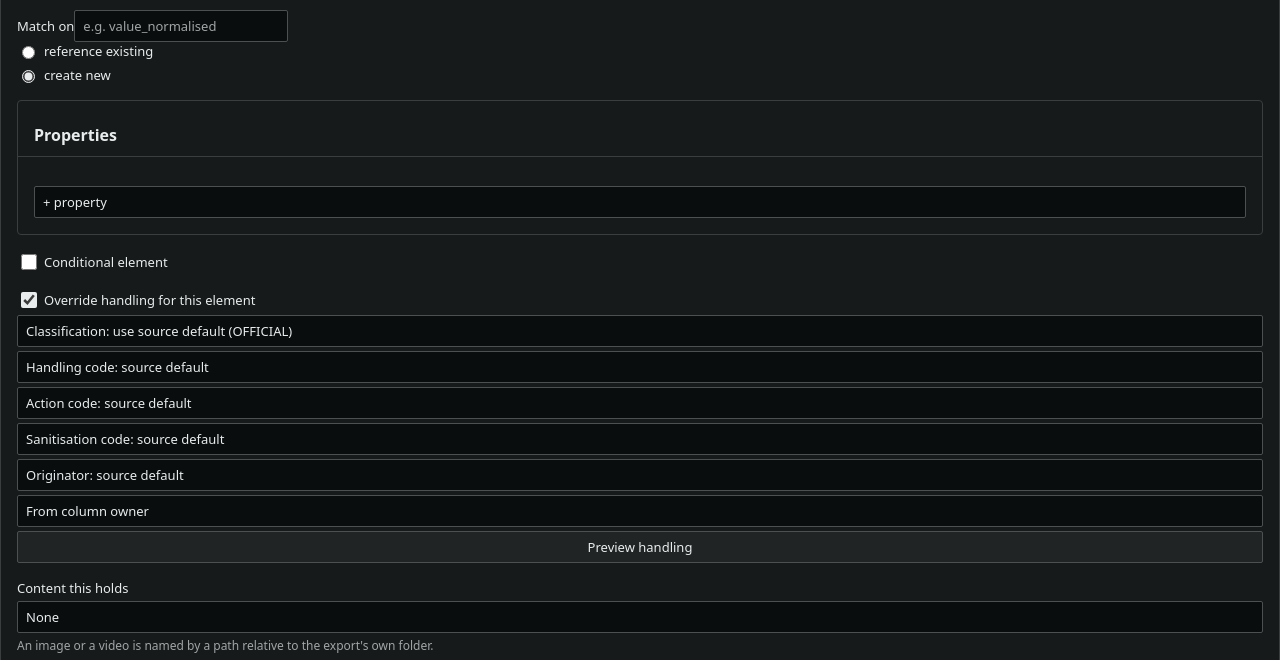
ElementInspector: the preview of a bound part › names every bound part, not classification alone
(page scrolled)
Click the button "Preview handling": x=640, y=547 [17,531,1263,563]
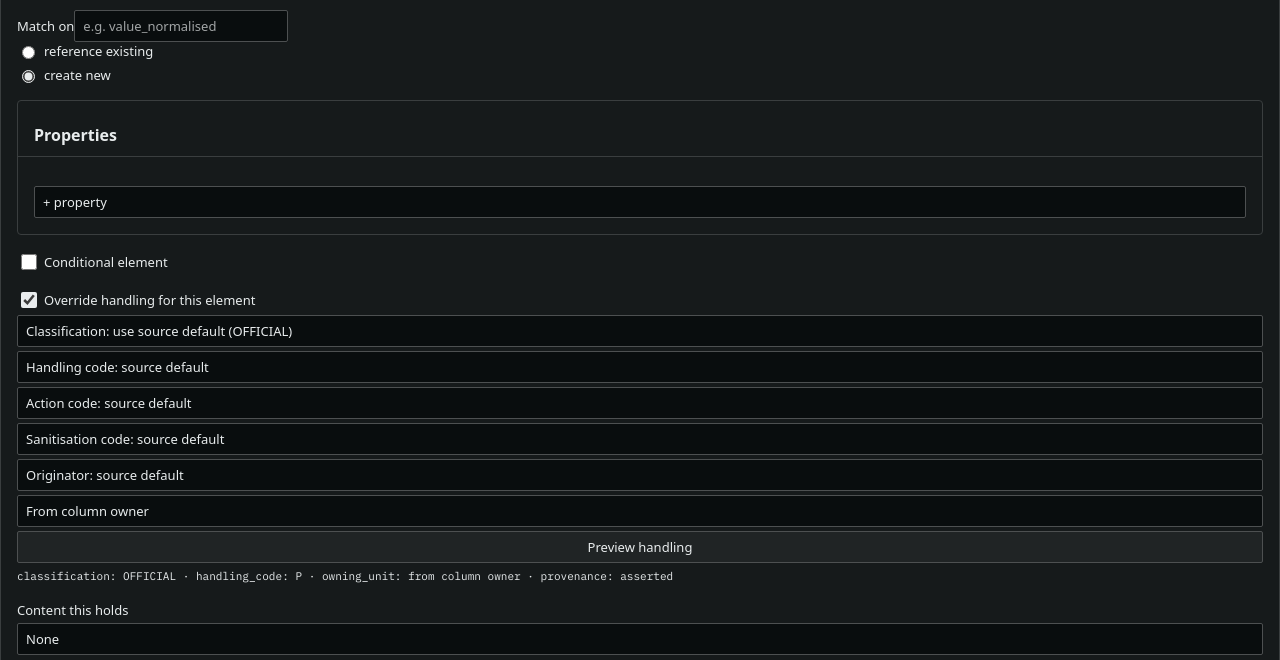
Now the text "handling_code: P" shows "owning_unit: from column owner", box [17,569,673,583]
